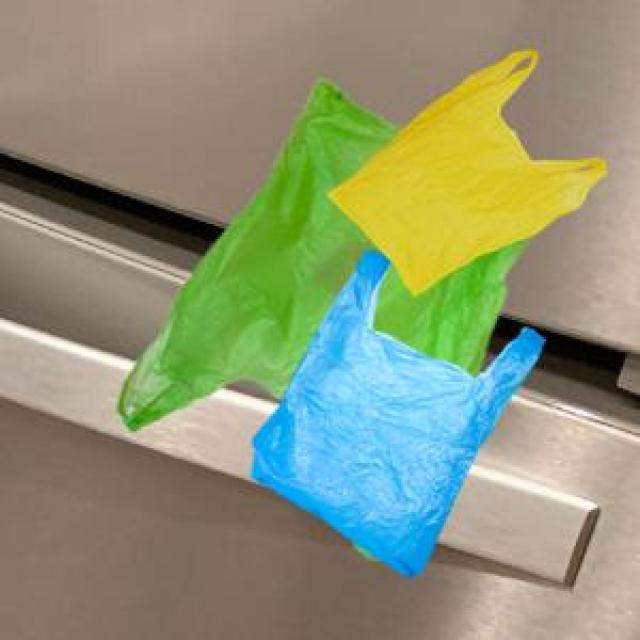litter: (141, 79, 511, 474), (257, 242, 544, 582), (333, 35, 600, 292)
